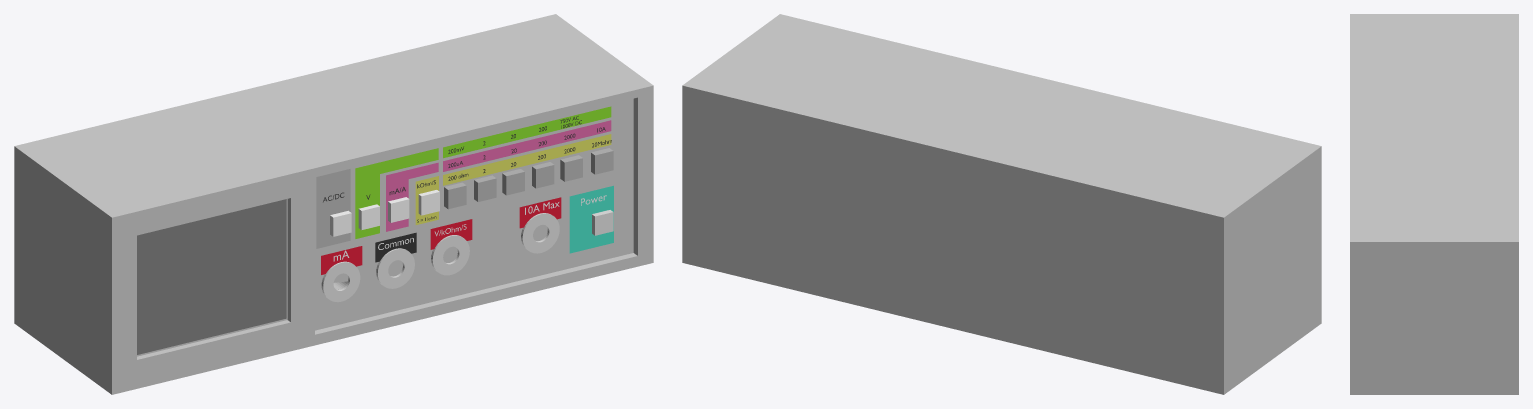
Rendered from fluke8010.fbx.
The picture shows the model from 3 angles, left to right: view 1: azimuth 30°, elevation 25°; view 2: azimuth 150°, elevation 25°; view 3: azimuth 270°, elevation 25°; orthographic projection. The views are drawn at different scales.
Visible parts, largest first — view 1: MainFrame, Plane, Plane.001, Plane.006, Plane.007, Plane.011, Plane.012, Plane.008, Plane.009, Common, Res, mA (+6 smaller); view 2: MainFrame; view 3: MainFrame.
Boxes of the visible parts, x1,y1,x2,y2 form: MainFrame: (14, 14, 653, 394); Plane: (137, 199, 286, 354); Plane.001: (569, 185, 613, 253); Plane.006: (316, 169, 350, 248); Plane.007: (355, 148, 438, 238); Plane.011: (443, 120, 611, 171); Plane.012: (443, 134, 611, 185); Plane.008: (443, 106, 611, 158); Plane.009: (386, 162, 438, 231); Common: (376, 248, 414, 288); Res: (431, 235, 469, 275); mA: (321, 261, 360, 302); MainFrame: (682, 14, 1321, 394); MainFrame: (1350, 14, 1518, 394).
Bounding box in the file's own units: 711 × 222 × 222.
